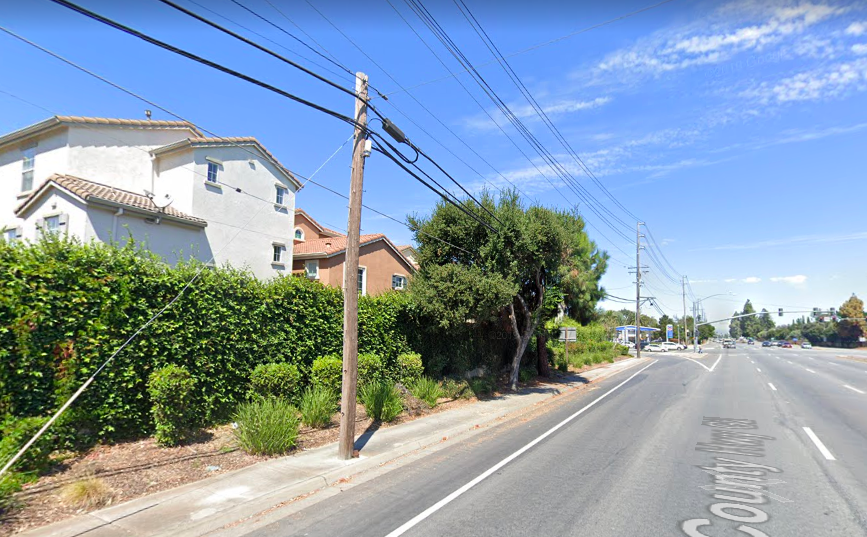tree: (404, 181, 612, 393)
utility_pole: (331, 57, 421, 196), (624, 212, 652, 277)
